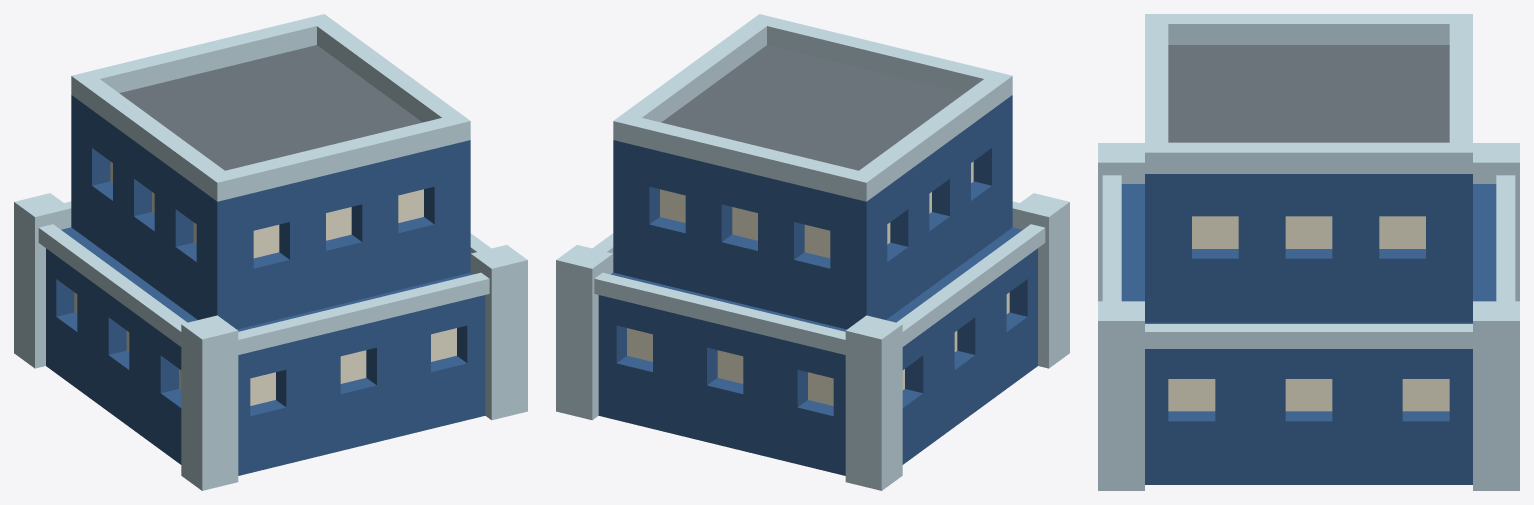
Rendered from Building_6 (Blue).obj.
The picture shows the model from 3 angles, left to right: view 1: azimuth 30°, elevation 25°; view 2: azimuth 150°, elevation 25°; view 3: azimuth 270°, elevation 25°; orthographic projection. The views are drawn at different scales.
Visible parts, largest first — view 1: Building_6_(Blue); view 2: Building_6_(Blue); view 3: Building_6_(Blue).
Boxes of the visible parts, bbox=[...] form: Building_6_(Blue): bbox=[14, 14, 527, 490]; Building_6_(Blue): bbox=[556, 14, 1069, 490]; Building_6_(Blue): bbox=[1098, 14, 1519, 490].
Size of the model in its own units: 1.8 by 1.5 by 1.8.
